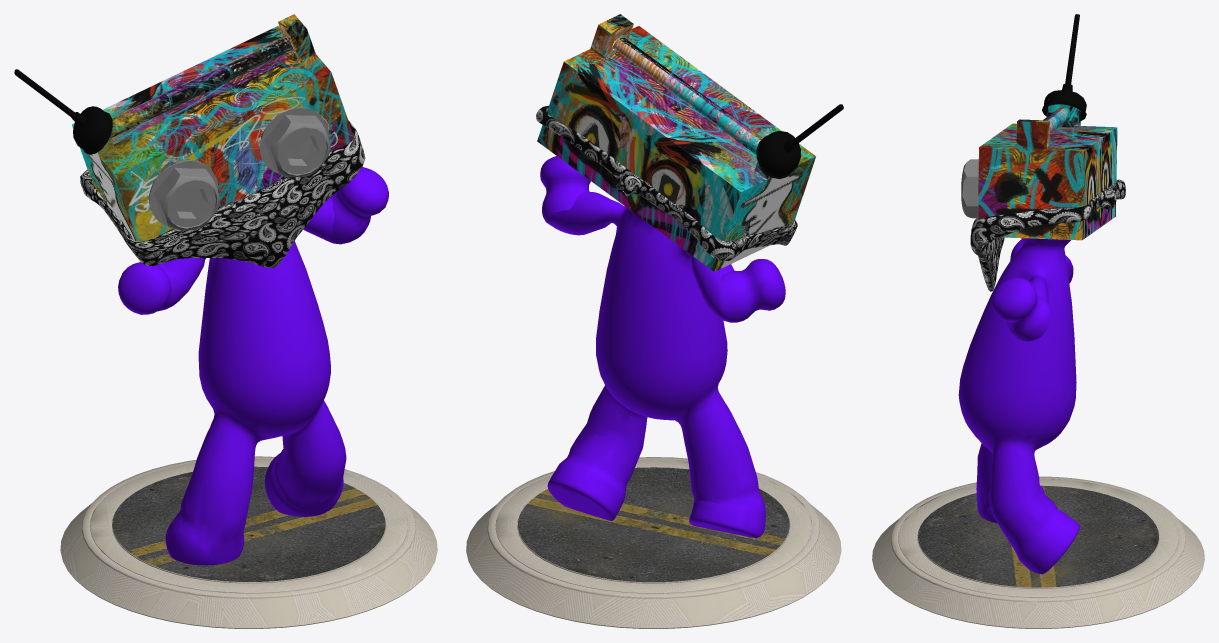
The picture shows the model from 3 angles, left to right: view 1: azimuth 30°, elevation 25°; view 2: azimuth 150°, elevation 25°; view 3: azimuth 270°, elevation 25°; orthographic projection. The views are drawn at different scales.
Bounding box in the file's own units: 1.66 × 2.2 × 1.45.
7 materials, 4 textured.
